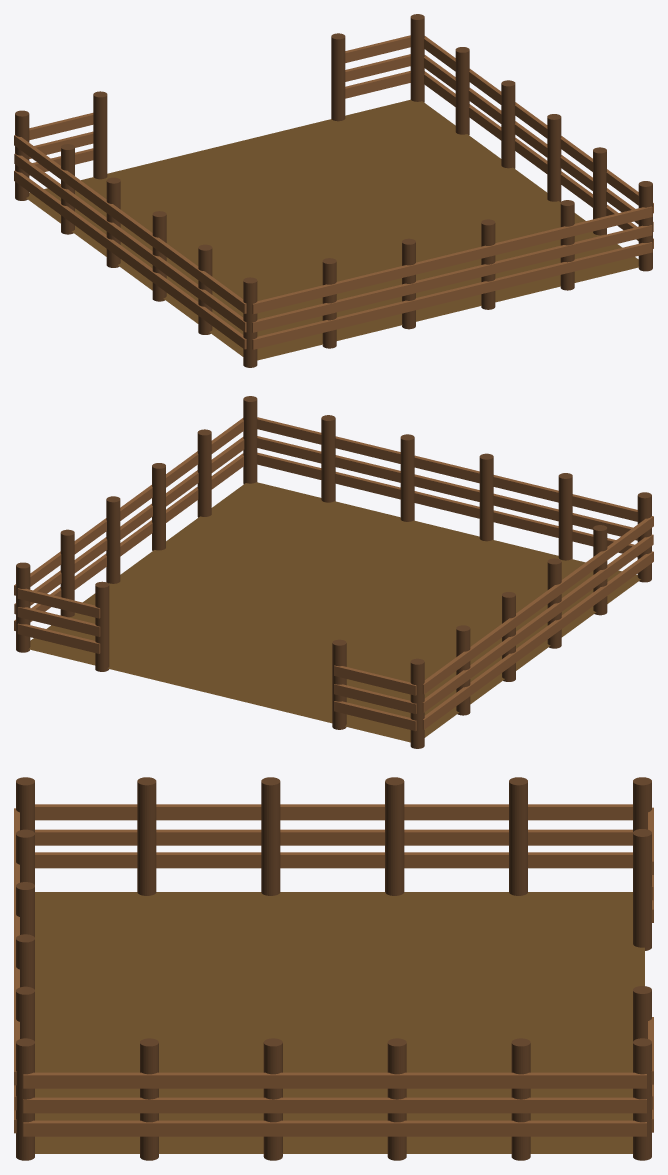
File: Low_Poly_Farm_Land.fbx
3 renders of one model, top to bottom at view 1: azimuth 30°, elevation 25°; view 2: azimuth 150°, elevation 25°; view 3: azimuth 270°, elevation 25°, orthographic. The views are drawn at different scales.
Visible parts, largest first — view 1: Plane, Cube.005; view 2: Plane, Cube.005; view 3: Plane, Cube.005.
Boxes of the visible parts, x1=… form: Plane: x1=26, y1=99, x2=639, y2=360; Cube.005: x1=14, y1=14, x2=653, y2=367; Plane: x1=28, y1=482, x2=640, y2=742; Cube.005: x1=14, y1=396, x2=653, y2=748; Plane: x1=35, y1=892, x2=644, y2=1153; Cube.005: x1=14, y1=777, x2=653, y2=1160.
Size of the model in its own units: 1035 by 204 by 1033.
